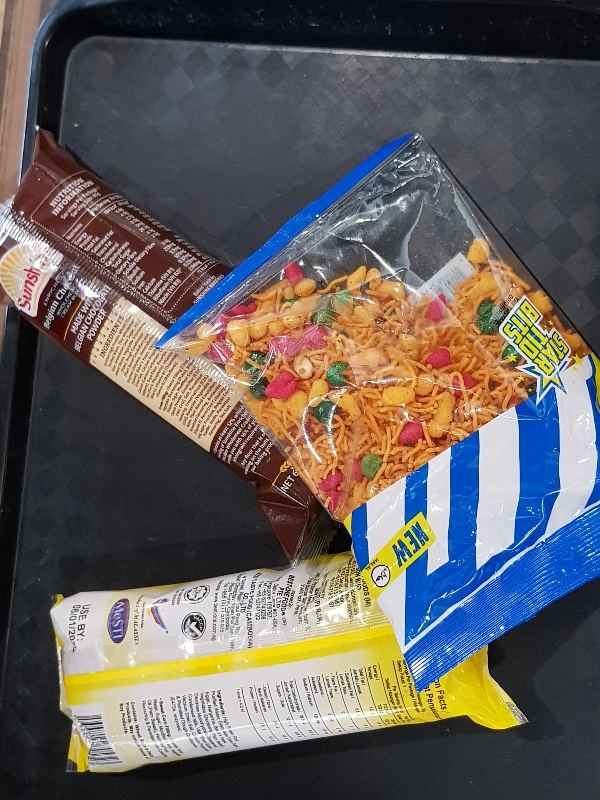Star Tidbits Mixer: (155, 129, 600, 690)
Sunshine Belgium Chocolate Wholemeal Cream Bun: (1, 126, 324, 564)
Tinges Roll Sweet Corn: (49, 550, 525, 775)
